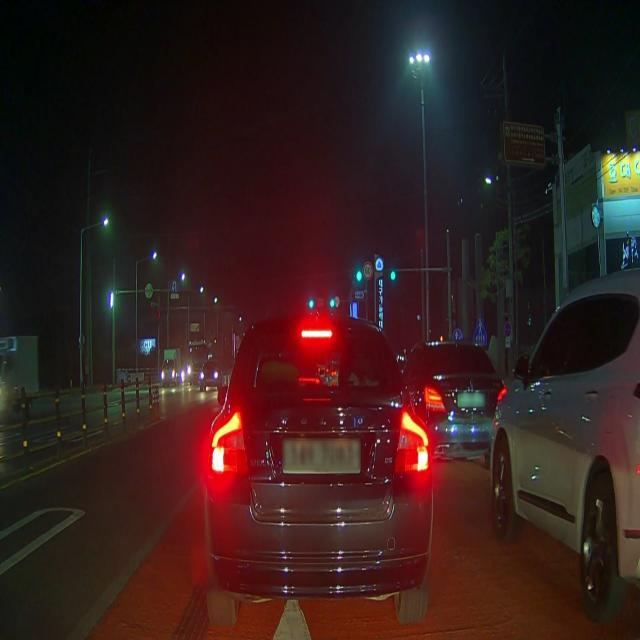Green Light: (356, 271, 363, 283), (390, 271, 396, 282), (308, 299, 314, 308), (330, 298, 335, 308)
